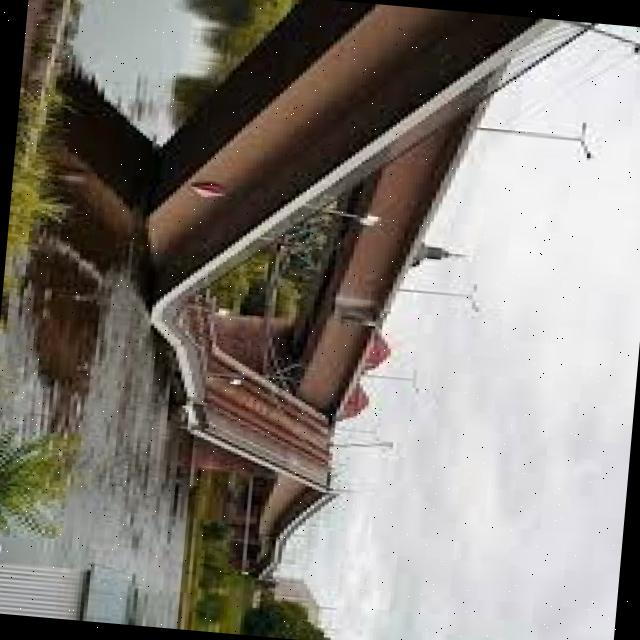bridge collapse: (137, 0, 575, 583)
